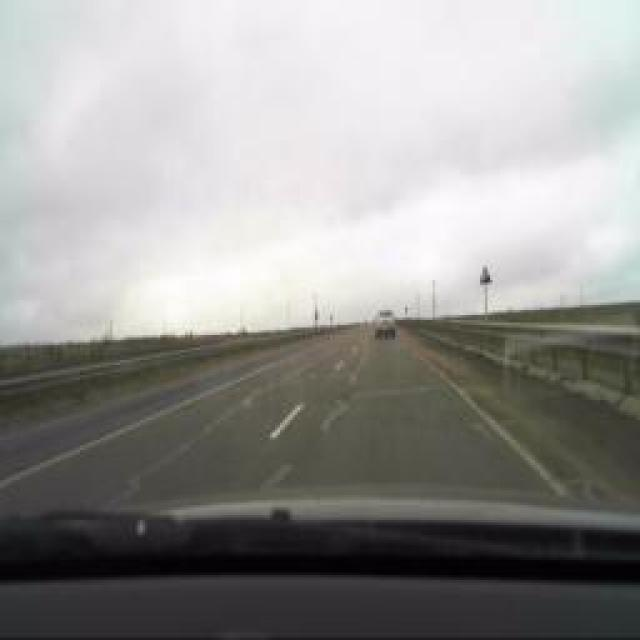sign: (478, 264, 492, 284)
